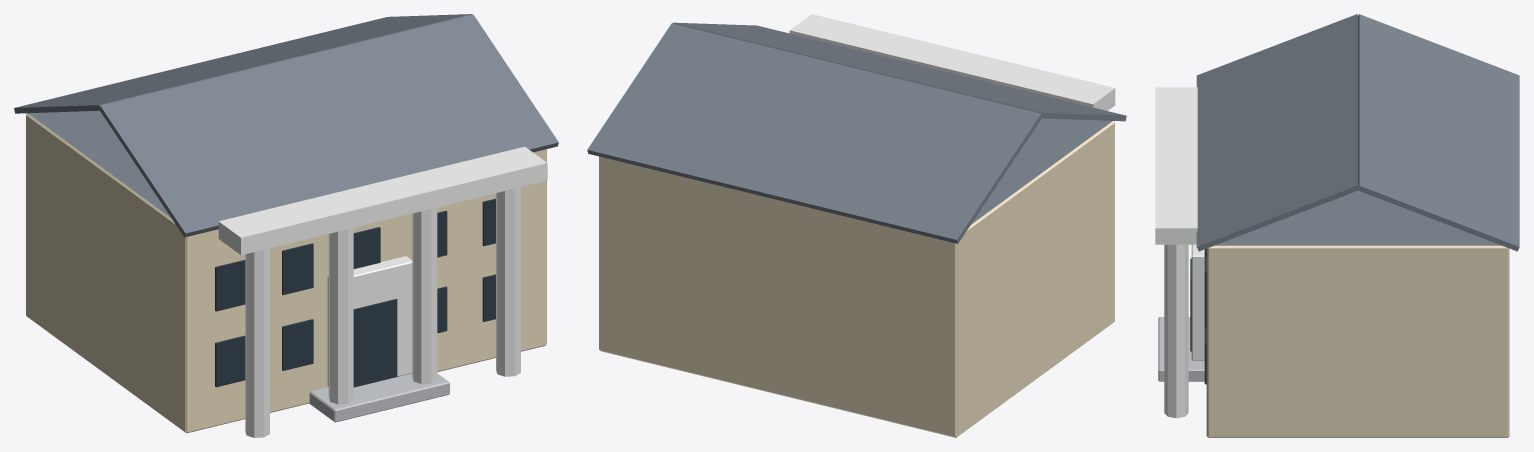
File: library.fbx
The picture shows the model from 3 angles, left to right: view 1: azimuth 30°, elevation 25°; view 2: azimuth 150°, elevation 25°; view 3: azimuth 270°, elevation 25°; orthographic projection. The views are drawn at different scales.
Parts seen in each view (by area): view 1: library; view 2: library; view 3: library.
Boxes of the visible parts, x1,y1,x2,y2 form: library: (14, 14, 558, 437); library: (587, 14, 1126, 437); library: (1155, 14, 1519, 437).
Size of the model in its own units: 13.4 by 9.31 by 12.03.
